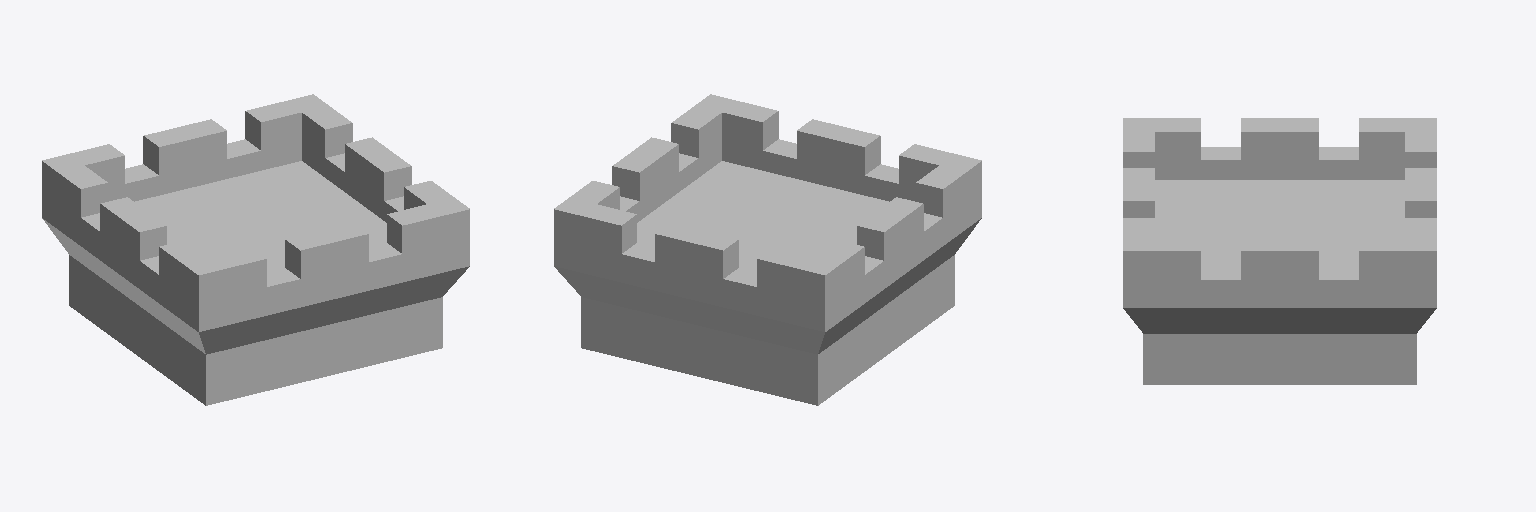
The model's file is towerSquare_topA.obj.
3 views of the same model, side by side, from view 1: azimuth 30°, elevation 25°; view 2: azimuth 150°, elevation 25°; view 3: azimuth 270°, elevation 25° (orthographic).
Parts seen in each view (by area): view 1: towerSquare_topA; view 2: towerSquare_topA; view 3: towerSquare_topA.
Boxes of the visible parts, x1,y1,x2,y2 form: towerSquare_topA: [42, 94, 469, 405]; towerSquare_topA: [554, 94, 981, 405]; towerSquare_topA: [1123, 118, 1436, 384].
Size of the model in its own units: 1 by 0.5 by 1.